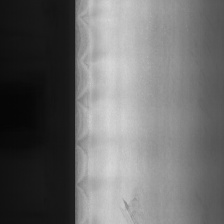water_spot: (121, 186, 140, 224)
